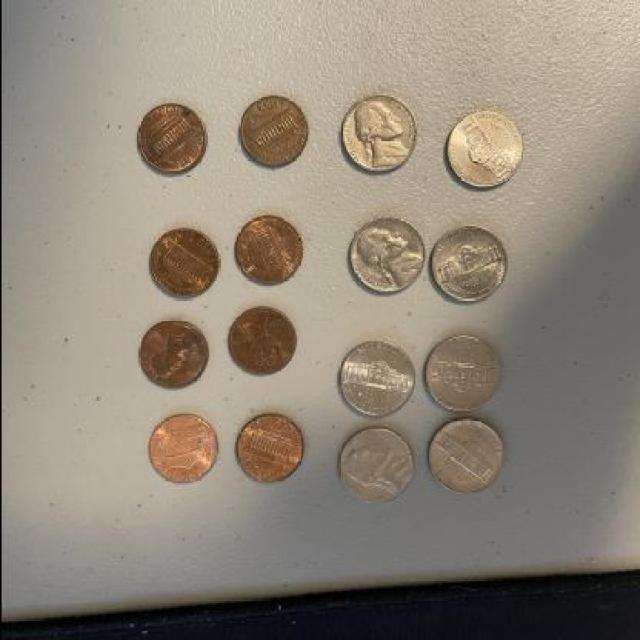Nickel: (443, 108, 526, 188), (336, 94, 418, 174), (335, 340, 417, 418), (337, 426, 417, 504), (422, 336, 502, 414), (346, 217, 426, 294), (429, 223, 506, 303), (422, 417, 502, 494)
Penny: (132, 104, 206, 176), (236, 97, 310, 168), (232, 412, 305, 483), (225, 306, 298, 377), (230, 216, 304, 286), (146, 228, 220, 298), (148, 414, 218, 484), (138, 322, 210, 389)
